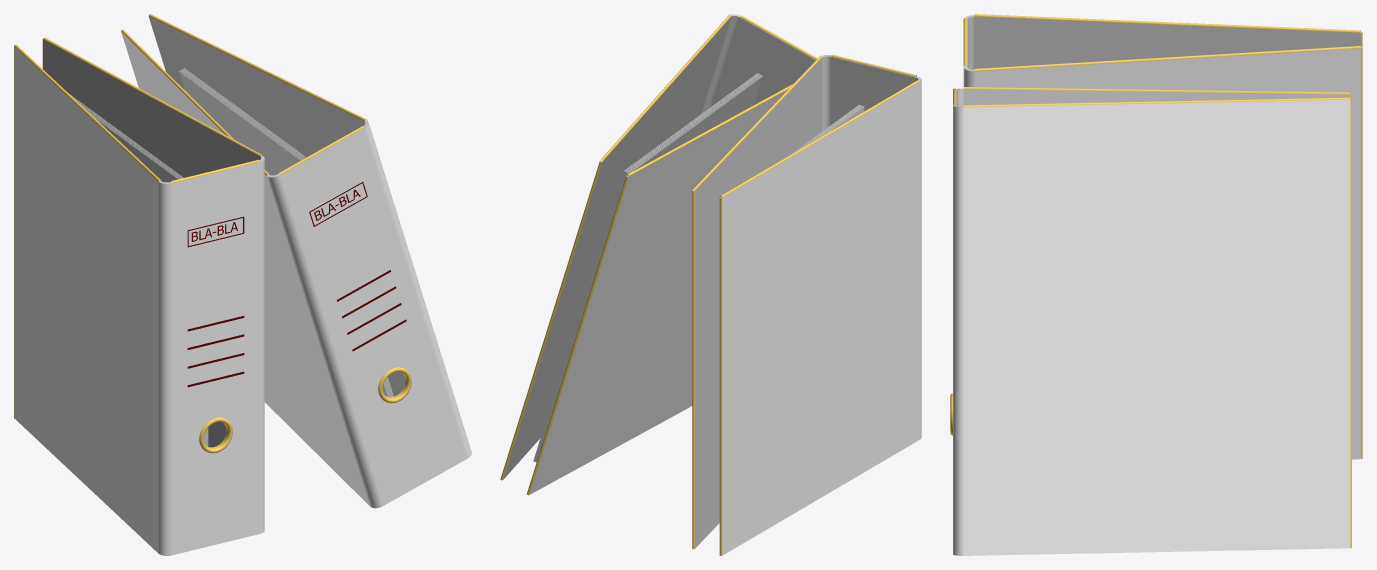
Rendered from contractFolder.fbx.
3 views of the same model, side by side, from view 1: azimuth 30°, elevation 25°; view 2: azimuth 150°, elevation 25°; view 3: azimuth 270°, elevation 25° (orthographic). The views are drawn at different scales.
Parts seen in each view (by area): view 1: Group_001, Group_002; view 2: Group_001, Group_002; view 3: Group_002, Group_001.
Part boxes in pixels (x1=…): Group_001: x1=14, y1=37, x2=264, y2=555; Group_002: x1=121, y1=14, x2=471, y2=508; Group_001: x1=692, y1=54, x2=921, y2=555; Group_002: x1=500, y1=14, x2=817, y2=495; Group_002: x1=950, y1=87, x2=1351, y2=555; Group_001: x1=963, y1=14, x2=1362, y2=459.
Bounding box in the file's own units: 293 × 355 × 309.
